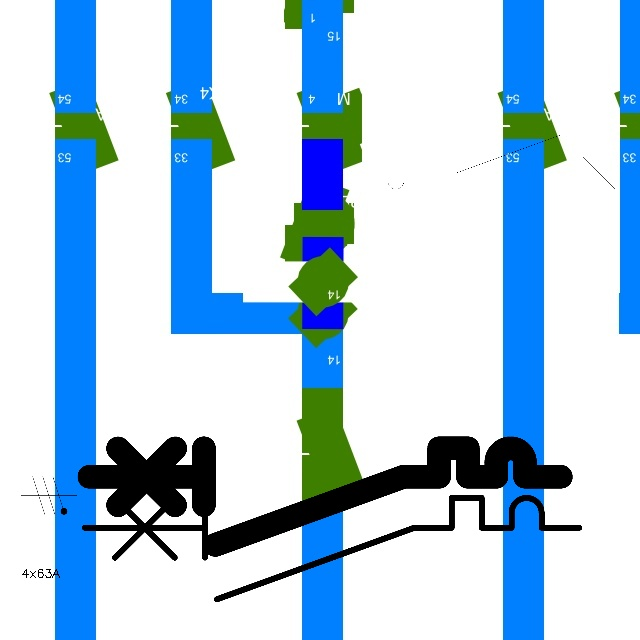interruptor_termomagnetico: (72, 485, 592, 612), (77, 436, 573, 557), (361, 128, 638, 196)
